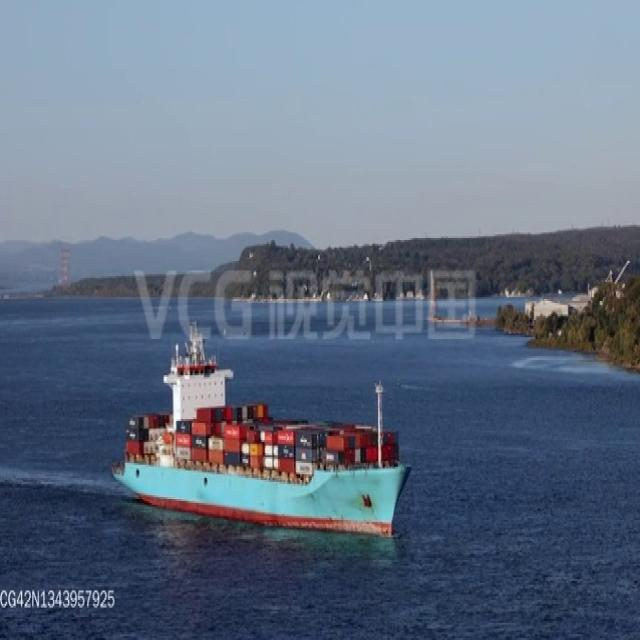cargoship: (115, 314, 406, 540)
